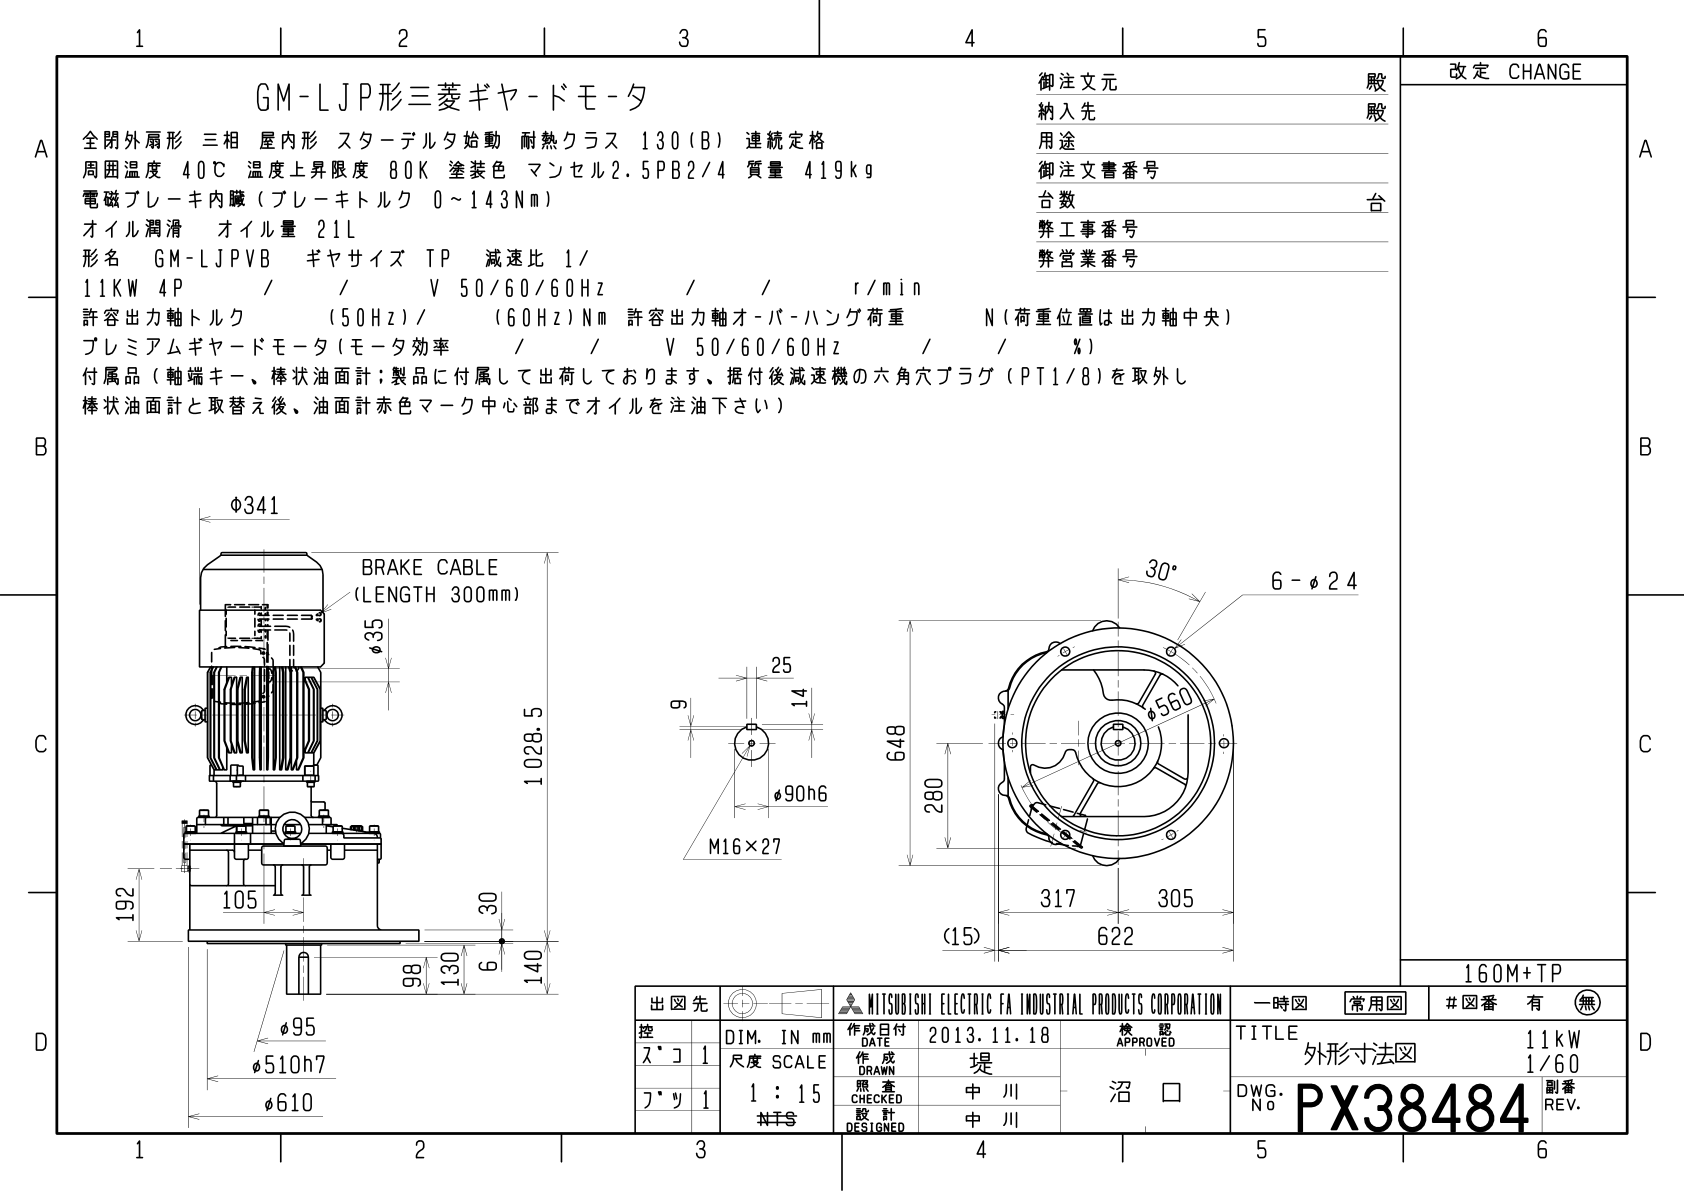GM_LJP_屋内_三相_立: (91, 458, 1363, 974)
